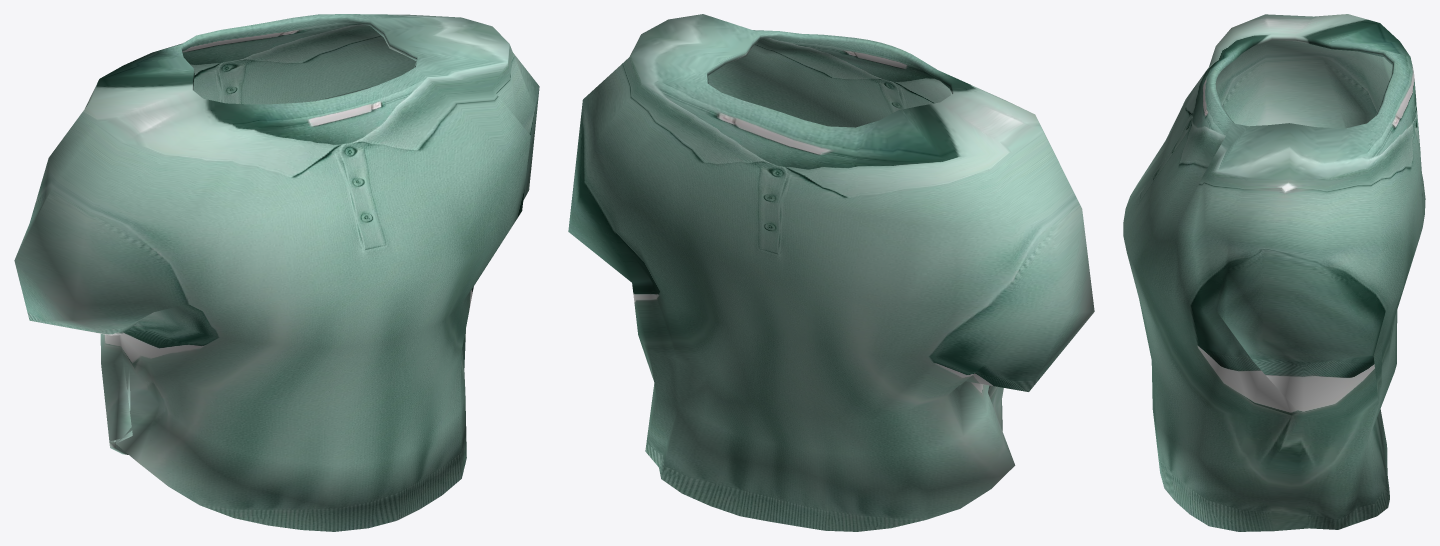
3 renders of one model, left to right at view 1: azimuth 30°, elevation 25°; view 2: azimuth 150°, elevation 25°; view 3: azimuth 270°, elevation 25°, orthographic. The views are drawn at different scales.
Parts seen in each view (by area): view 1: garment; view 2: garment; view 3: garment.
Boxes of the visible parts, bbox=[...] form: garment: bbox=[14, 14, 539, 531]; garment: bbox=[568, 14, 1094, 531]; garment: bbox=[1123, 14, 1425, 531].
Bounding box in the file's own units: 0.5759 × 0.4656 × 0.3245.
1 material, 1 textured.
